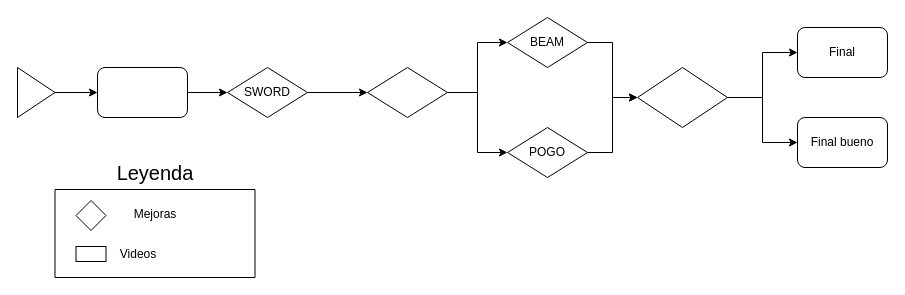
Some shapes in this 905 by 295 pixel diagram are drawn without their labels. Here are the shapes that lost their labels. From the top down, the centre of each, then its label:
At (x=142, y=92): "Video introducción".
At (x=407, y=92): "BREAK".
At (x=682, y=97): "TELEPORT".
